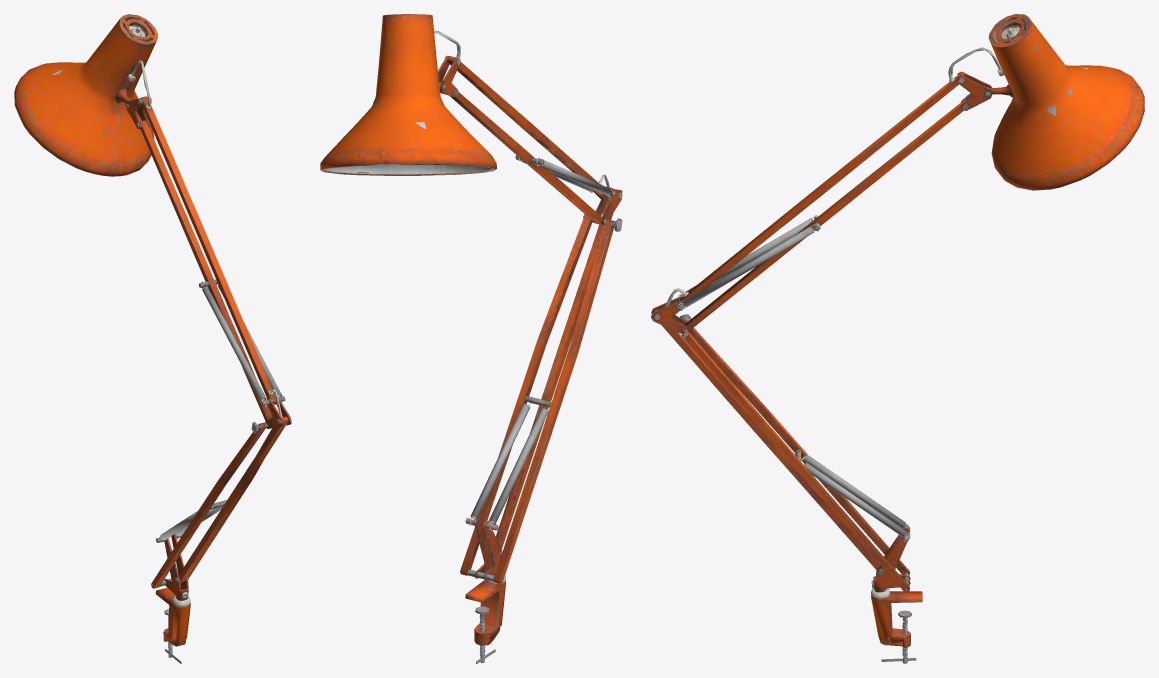
File: lamp-desk-arm.lite.0fc5541c.glb
The picture shows the model from 3 angles, left to right: view 1: azimuth 30°, elevation 25°; view 2: azimuth 150°, elevation 25°; view 3: azimuth 270°, elevation 25°; orthographic projection. The views are drawn at different scales.
Visible parts, largest first — view 1: model; view 2: model; view 3: model.
Boxes of the visible parts, left/top/right/bottom form: model: left=14, top=14, right=291, bottom=663; model: left=320, top=14, right=622, bottom=663; model: left=651, top=14, right=1144, bottom=663.
Bounding box in the file's own units: 0.2017 × 0.8926 × 0.6133.
Materials: 2 (2 with a texture image).
